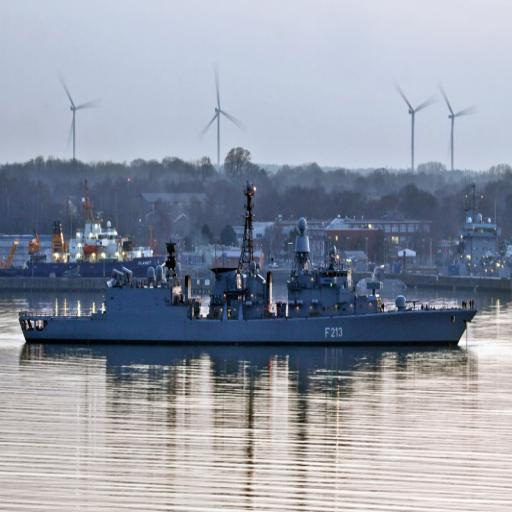Fragata: (19, 175, 478, 346)
